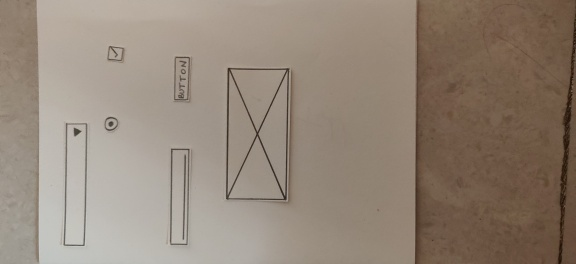button: (172, 53, 190, 102)
checkbox: (106, 44, 126, 63)
dropdown: (64, 119, 89, 247)
img: (224, 63, 290, 206)
radio: (103, 115, 119, 131)
text: (169, 148, 189, 245)
